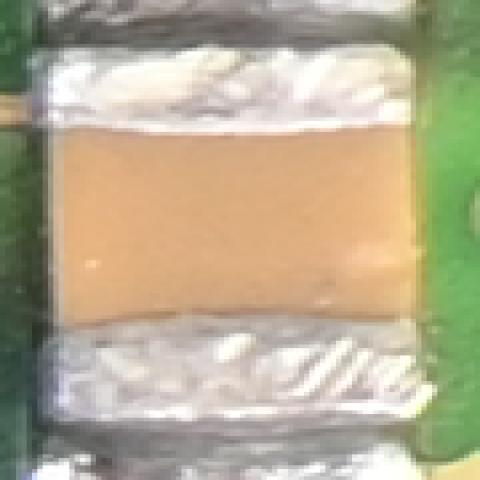Capacitor: (18, 40, 437, 428)
